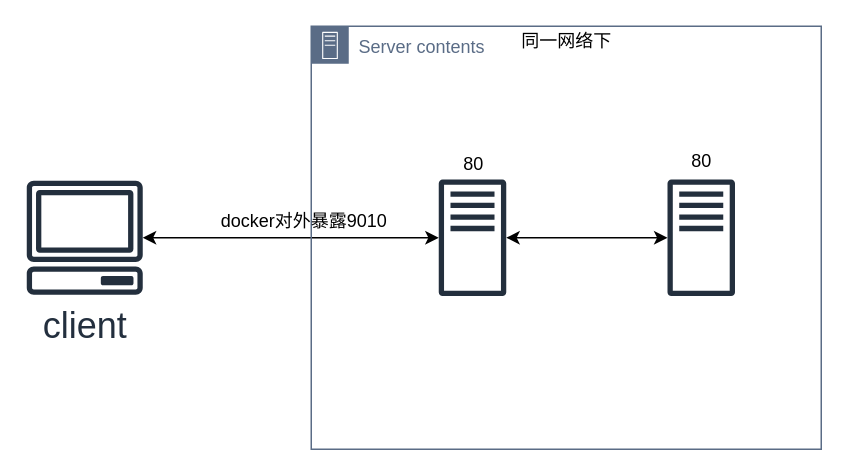
Some shapes in this 848 by 476 pixel diagram are drawn without their labels. Each missing label, with the box of its shape:
Agency Server: (438, 178, 506, 296)
server: (667, 178, 734, 296)
